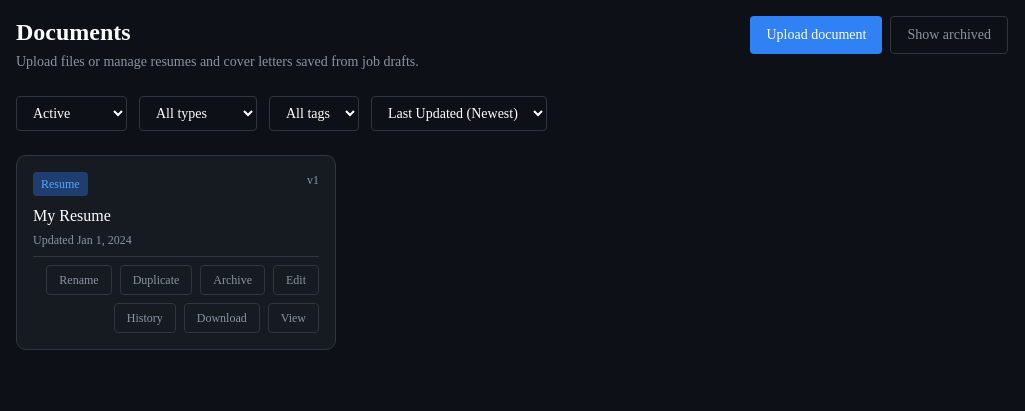
Test case: DocumentsPage - S3-008 Document Archive and Restore › shows an error message and keeps the document visible when Archive fails
Expected: the heading "My Resume" is shown, [33,207,111,224]
Click the button with test id "document-archive-button" at point(233, 280), box [200,265,265,295]
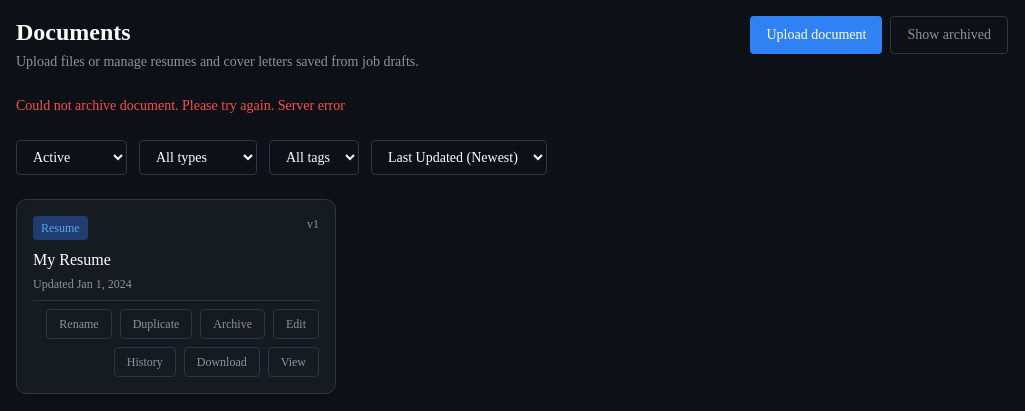
Expected: the heading "My Resume" is shown, [33,251,111,268]
Expected: the message with test id "action-error" shows "Could not archive", [16,98,345,113]
